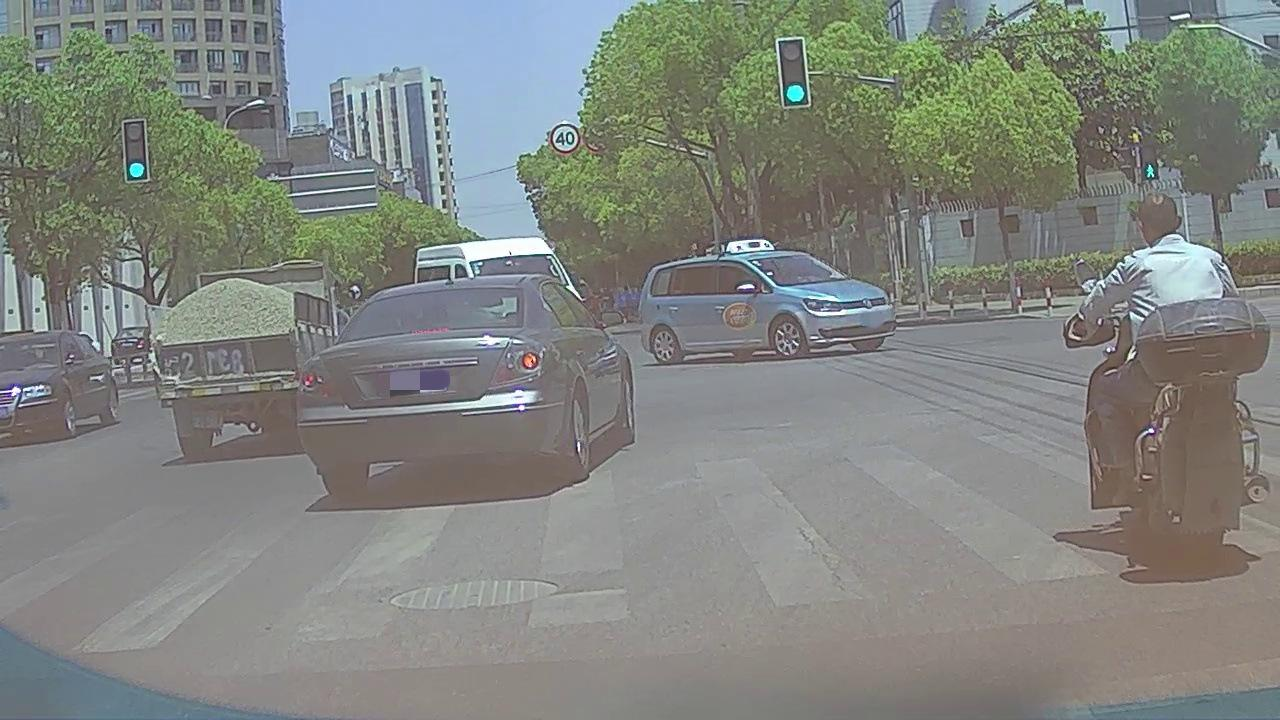traffic_light: (780, 40, 808, 109), (123, 120, 147, 180)
